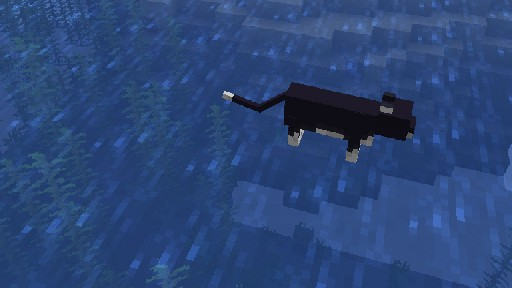cat: (221, 81, 416, 163)
